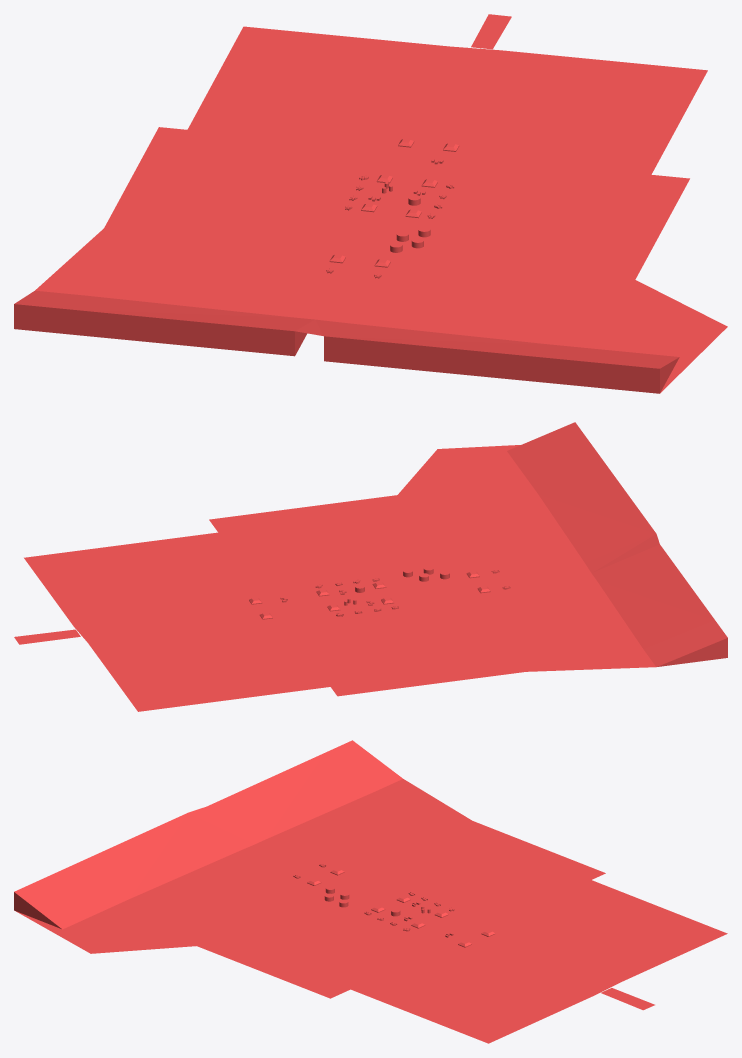
Rendered from Promotion3D_daytime.dae.
The picture shows the model from 3 angles, top to bottom: view 1: azimuth 30°, elevation 25°; view 2: azimuth 150°, elevation 25°; view 3: azimuth 270°, elevation 25°; orthographic projection. The views are drawn at different scales.
Visible parts, largest first — view 1: SketchUp (×8), Component_2 (×2); view 2: SketchUp (×8), Component_2 (×2); view 3: SketchUp (×8).
Part boxes in pixels (box(x1,y1,x2,y2)): SketchUp (×8): box(14, 26, 727, 393); Component_2 (×2): box(354, 14, 511, 254); SketchUp (×8): box(24, 422, 727, 711); Component_2 (×2): box(14, 581, 465, 644); SketchUp (×8): box(14, 740, 727, 1043).
Bounding box in the file's own units: 2675 × 2833 × 81.38.
